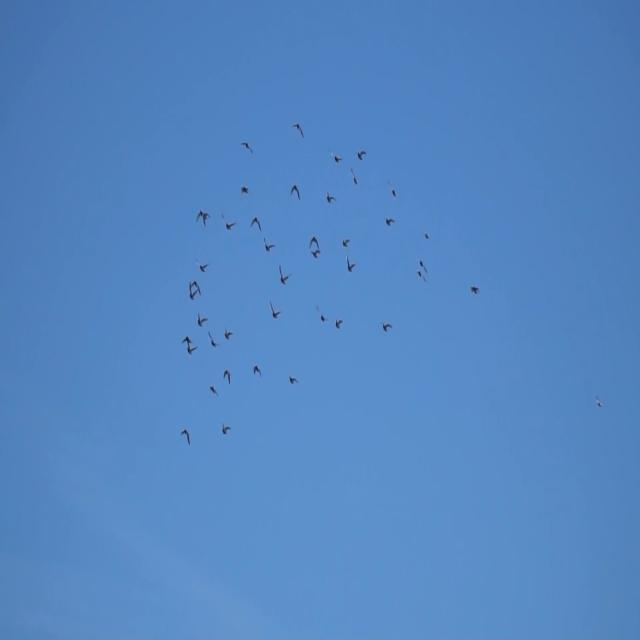bird: (278, 264, 293, 287), (220, 212, 237, 232), (268, 300, 283, 322), (315, 304, 329, 324), (413, 269, 428, 286), (468, 279, 482, 297), (208, 330, 221, 349), (263, 237, 276, 255), (386, 179, 398, 198), (184, 342, 198, 358), (249, 215, 262, 232), (240, 140, 254, 155), (346, 254, 357, 273), (349, 166, 358, 188), (180, 429, 191, 447), (196, 259, 210, 273), (330, 149, 343, 164), (293, 122, 305, 138), (190, 280, 202, 296), (197, 311, 208, 328), (188, 282, 198, 300), (290, 183, 300, 200), (222, 368, 232, 385), (355, 148, 367, 162), (308, 235, 320, 249), (181, 334, 193, 348), (252, 362, 262, 378), (380, 319, 392, 332), (223, 327, 235, 340), (326, 190, 337, 204), (419, 259, 429, 274), (308, 250, 322, 260), (221, 422, 231, 436), (202, 211, 210, 228), (195, 208, 204, 223), (209, 383, 218, 398), (384, 216, 396, 227), (341, 236, 352, 248), (334, 316, 344, 329), (287, 374, 299, 384), (241, 183, 249, 196), (422, 230, 430, 241)
